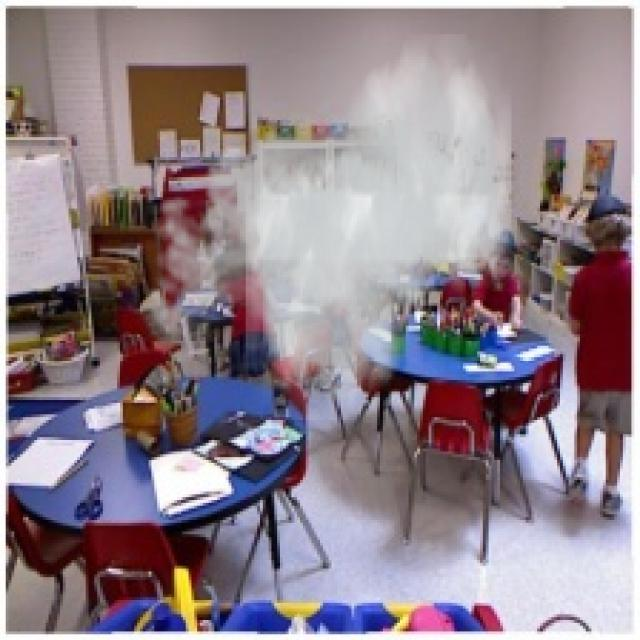smoke: (134, 34, 512, 420)
